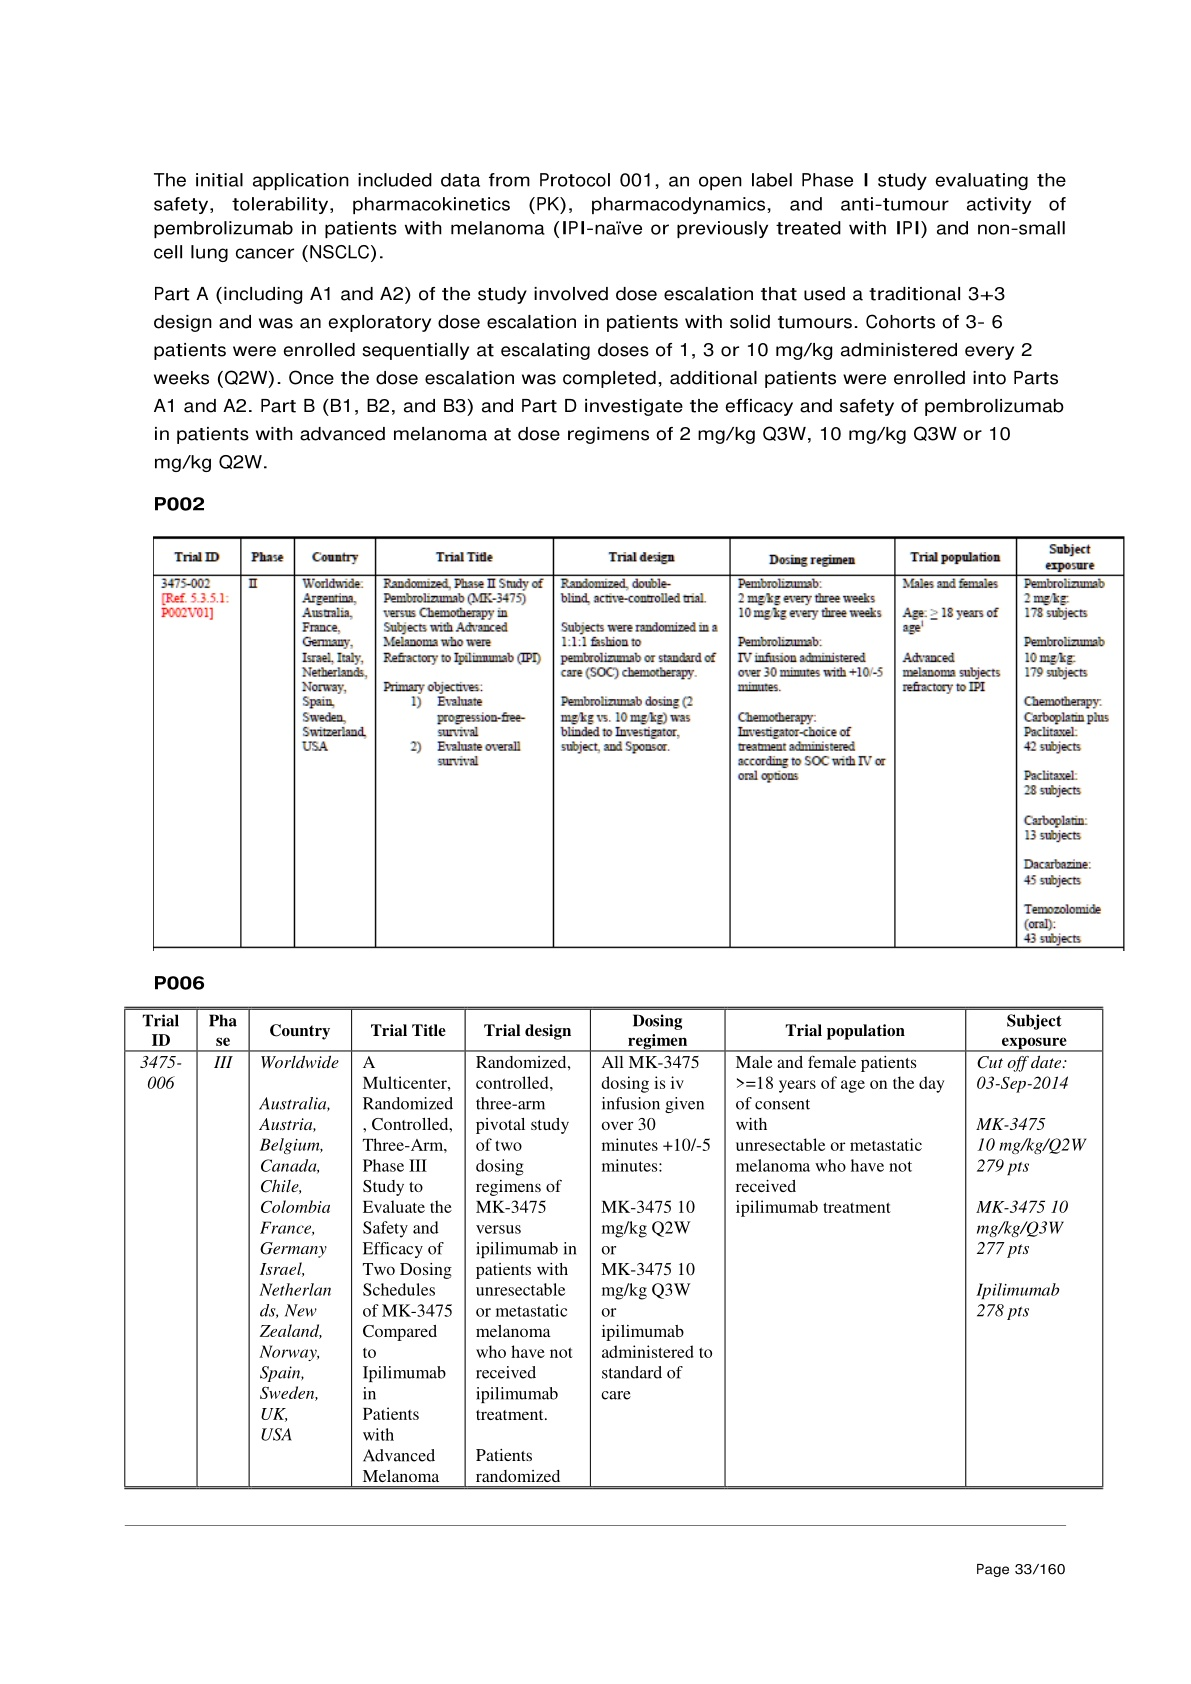full_lined: (122, 1005, 1105, 1489), (152, 535, 1127, 950)
